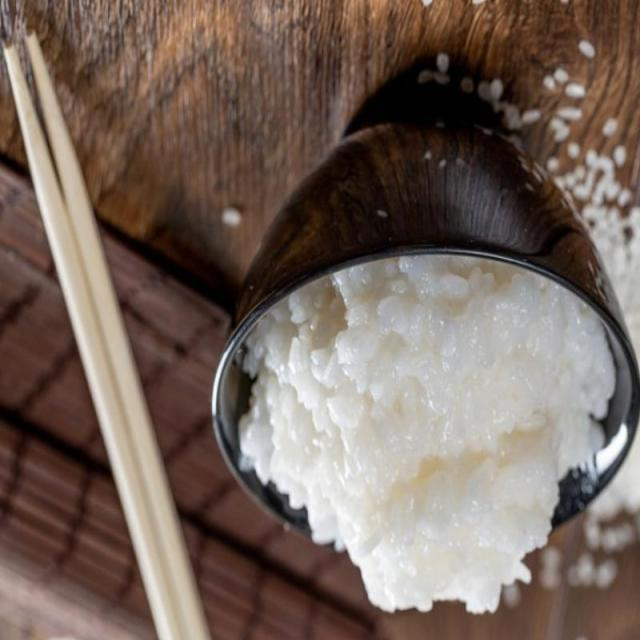nasi_putih: (237, 254, 618, 619)
